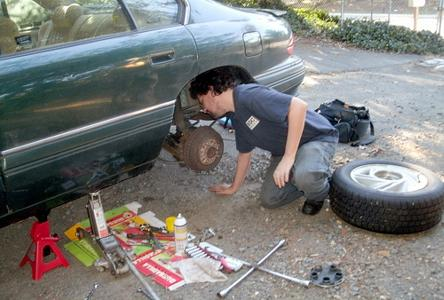person: (190, 67, 341, 217)
